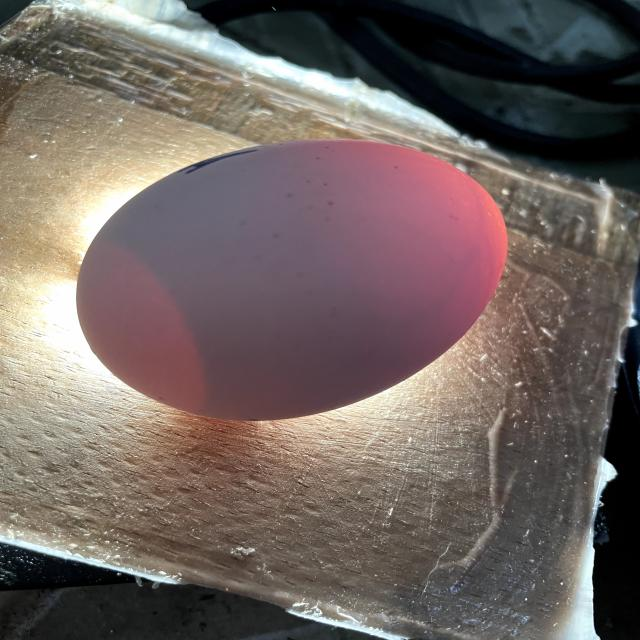fertile: (77, 140, 507, 420)
